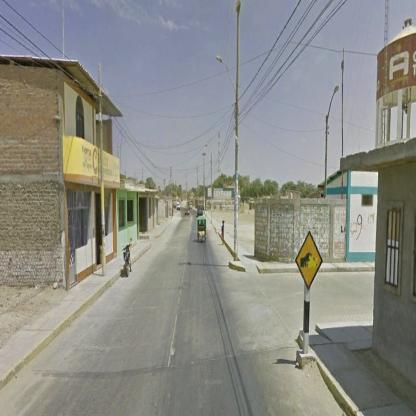Moto: (123, 245, 133, 279)
Peaton: (222, 220, 226, 246)
Pista: (29, 207, 322, 373)
Vehiculo: (198, 216, 207, 245)
